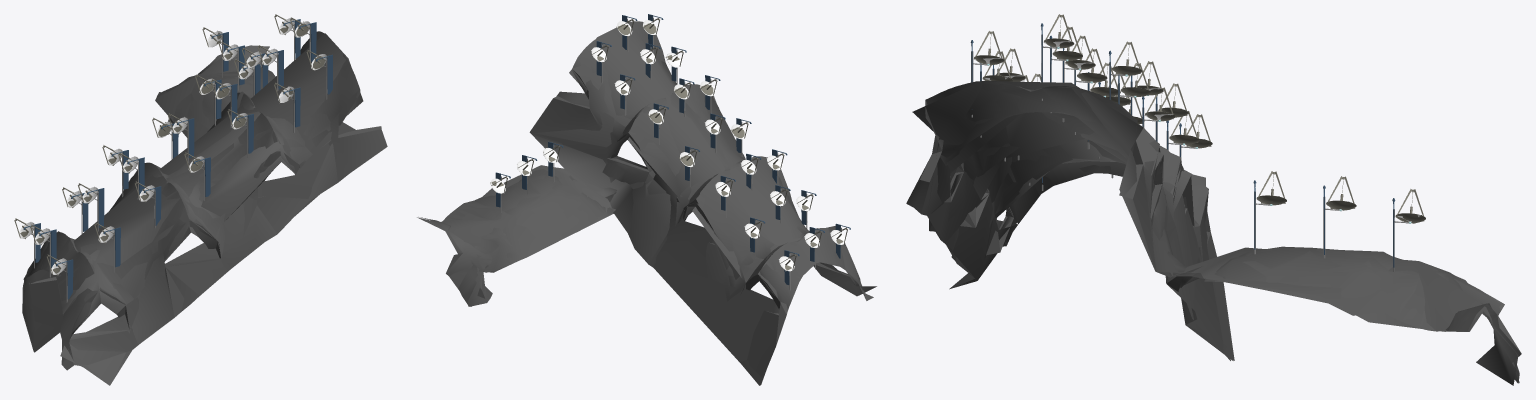
File: Overlay_4th_Gal_Middle.glb
3 views of the same model, side by side, from view 1: azimuth 30°, elevation 25°; view 2: azimuth 150°, elevation 25°; view 3: azimuth 270°, elevation 25° (orthographic). The views are drawn at different scales.
Visible parts, largest first — view 1: Overlay_4thGal_Middle.002, Overlay_4thGal_Middle, Overlay_4thGal_Middle.001, LightTubes_4thGal_Middle_LEDs, LightTubes_4thGal_Middle_Mirrors, LightTubes_4thGal_Middle_Mirrors.002, LightTubes_4thGal_Middle_Mirrors.001, LightTubes_4thGal_Middle_Bases, LightTubes_4thGal_Middle_LEDs.001, LightTubes_4thGal_Middle_Bases.001, LightTubes_4thGal_Middle_Bases.002; view 2: Overlay_4thGal_Middle.002, Overlay_4thGal_Middle, Overlay_4thGal_Middle.001, LightTubes_4thGal_Middle_LEDs, LightTubes_4thGal_Middle_Mirrors, LightTubes_4thGal_Middle_Mirrors.002, LightTubes_4thGal_Middle_Mirrors.001, LightTubes_4thGal_Middle_Bases; view 3: Overlay_4thGal_Middle.002, Overlay_4thGal_Middle, Overlay_4thGal_Middle.001, LightTubes_4thGal_Middle_Mirrors, LightTubes_4thGal_Middle_LEDs, LightTubes_4thGal_Middle_Mirrors.001, LightTubes_4thGal_Middle_Mirrors.002, LightTubes_4thGal_Middle_Bases, LightTubes_4thGal_Middle_Bases.001, LightTubes_4thGal_Middle_Bases.002.
Part boxes in pixels (<box>): Overlay_4thGal_Middle.002: <box>23,33,363,384</box>; Overlay_4thGal_Middle: <box>22,31,387,385</box>; Overlay_4thGal_Middle.001: <box>22,31,360,384</box>; LightTubes_4thGal_Middle_LEDs: <box>23,19,332,299</box>; LightTubes_4thGal_Middle_Mirrors: <box>14,14,327,274</box>; LightTubes_4thGal_Middle_Mirrors.002: <box>20,17,324,275</box>; LightTubes_4thGal_Middle_Mirrors.001: <box>19,16,326,274</box>; LightTubes_4thGal_Middle_Bases: <box>31,21,327,302</box>; LightTubes_4thGal_Middle_LEDs.001: <box>23,21,327,291</box>; LightTubes_4thGal_Middle_Bases.001: <box>32,23,326,302</box>; LightTubes_4thGal_Middle_Bases.002: <box>34,37,327,301</box>; Overlay_4thGal_Middle.002: <box>417,21,876,385</box>; Overlay_4thGal_Middle: <box>424,21,873,385</box>; Overlay_4thGal_Middle.001: <box>419,21,865,385</box>; LightTubes_4thGal_Middle_LEDs: <box>495,14,850,284</box>; LightTubes_4thGal_Middle_Mirrors: <box>490,17,847,271</box>; LightTubes_4thGal_Middle_Mirrors.002: <box>490,23,843,270</box>; LightTubes_4thGal_Middle_Mirrors.001: <box>491,19,846,270</box>; LightTubes_4thGal_Middle_Bases: <box>501,18,841,290</box>; Overlay_4thGal_Middle.002: <box>912,81,1518,385</box>; Overlay_4thGal_Middle: <box>908,81,1520,383</box>; Overlay_4thGal_Middle.001: <box>906,81,1521,382</box>; LightTubes_4thGal_Middle_Mirrors: <box>974,14,1425,223</box>; LightTubes_4thGal_Middle_LEDs: <box>970,23,1394,267</box>; LightTubes_4thGal_Middle_Mirrors.001: <box>975,16,1423,221</box>; LightTubes_4thGal_Middle_Mirrors.002: <box>973,16,1424,223</box>; LightTubes_4thGal_Middle_Bases: <box>971,35,1408,271</box>; LightTubes_4thGal_Middle_Bases.001: <box>971,36,1407,260</box>; LightTubes_4thGal_Middle_Bases.002: <box>971,45,1395,271</box>.
Size of what is drawn, in the model's own units: 322 by 274 by 308.
